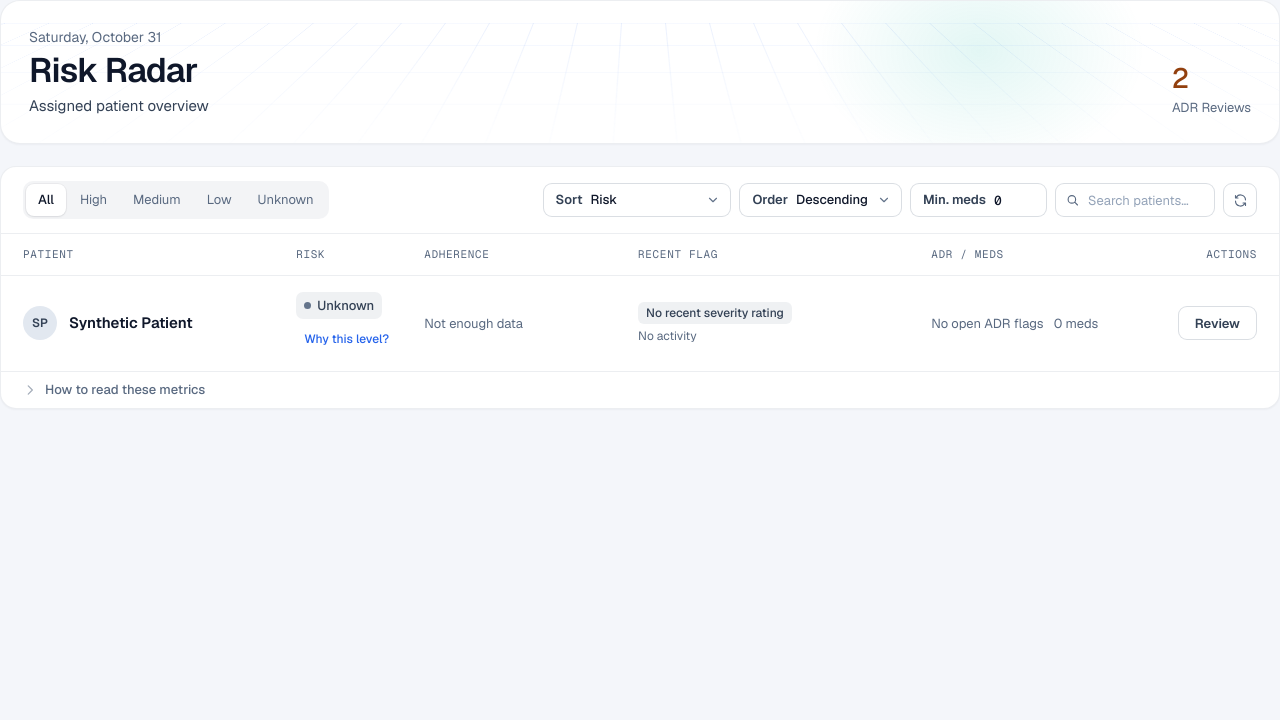
Test: Dashboard presentation › does not invent a versioned explanation for an older snapshot
This screenshot has width=1280, height=720.
Click the button with aria-label "Explain review priority for Synthetic Patient": (347, 339) [296,323,397,355]
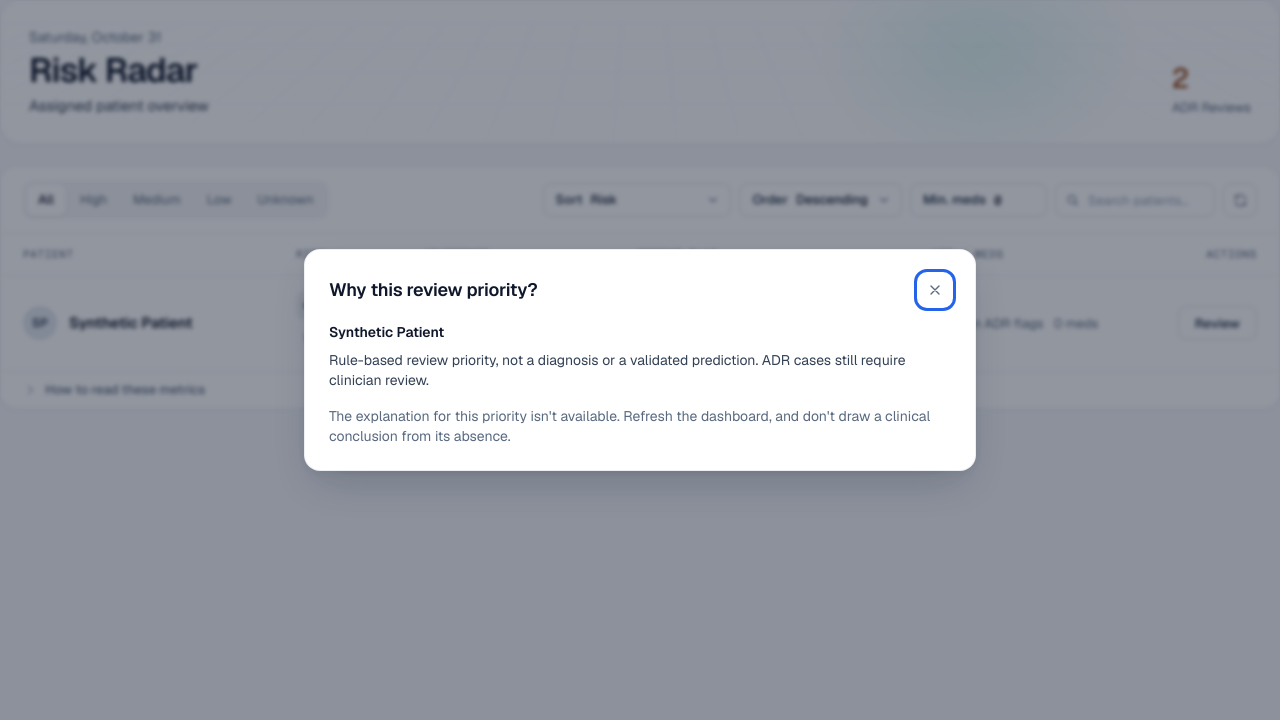
Result: the dialog shows "The explanation for this priority isn't available" at [329,407,930,445]
